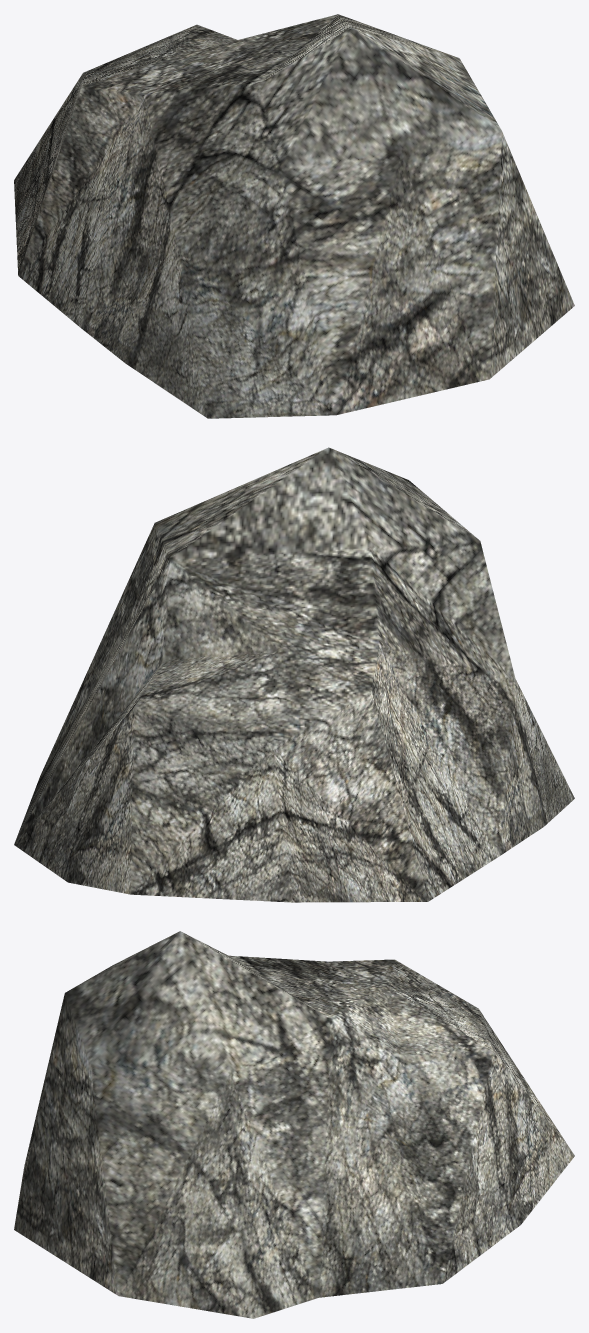
The model's file is RockTop-1.fbx.
The picture shows the model from 3 angles, top to bottom: view 1: azimuth 30°, elevation 25°; view 2: azimuth 150°, elevation 25°; view 3: azimuth 270°, elevation 25°; orthographic projection. The views are drawn at different scales.
Visible parts, largest first — view 1: pCube1; view 2: pCube1; view 3: pCube1.
Part boxes in pixels (x1=…): pCube1: x1=14, y1=14, x2=574, y2=418; pCube1: x1=14, y1=447, x2=574, y2=902; pCube1: x1=14, y1=931, x2=574, y2=1318.
Bounding box in the file's own units: 16.34 × 11.56 × 20.09.
1 material, 1 textured.
